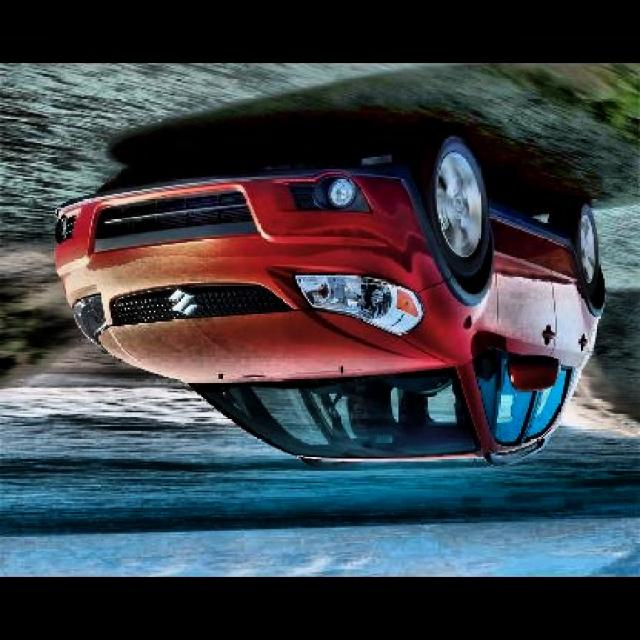red: (58, 157, 640, 469)
